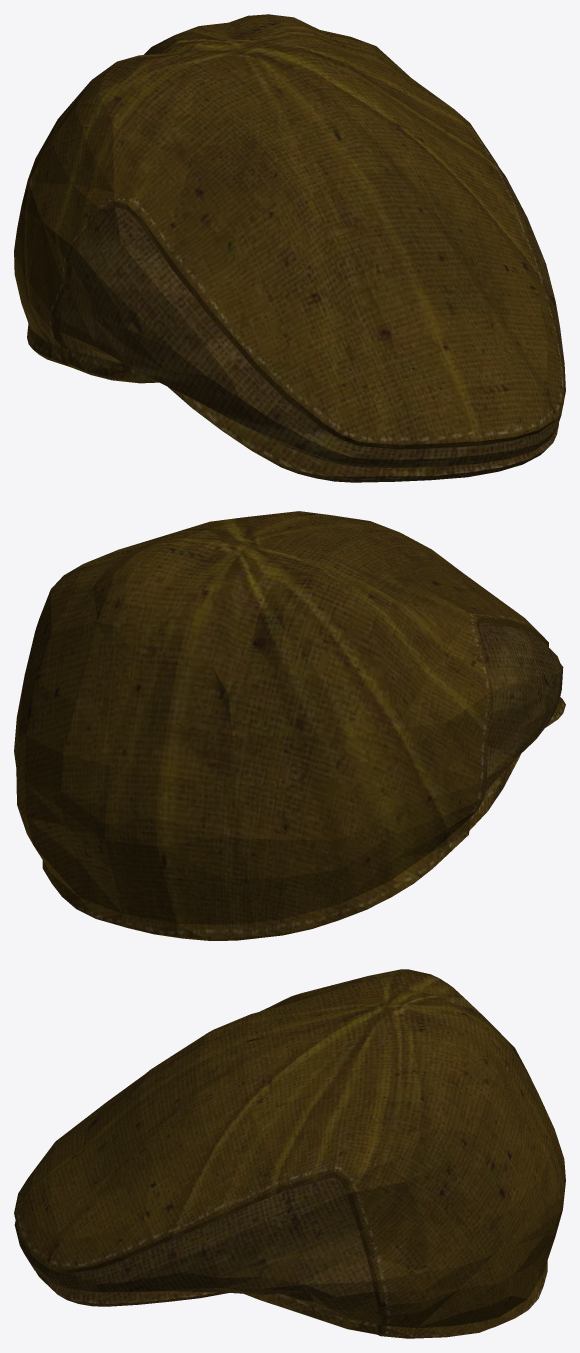
Rendered from HK_BERET_BROWN.glb.
The picture shows the model from 3 angles, top to bottom: view 1: azimuth 30°, elevation 25°; view 2: azimuth 150°, elevation 25°; view 3: azimuth 270°, elevation 25°; orthographic projection. The views are drawn at different scales.
Parts seen in each view (by area): view 1: HK_BERET_BROWN; view 2: HK_BERET_BROWN; view 3: HK_BERET_BROWN.
Boxes of the visible parts, left/top/right/bottom form: HK_BERET_BROWN: left=14, top=14, right=565, bottom=482; HK_BERET_BROWN: left=14, top=511, right=565, bottom=940; HK_BERET_BROWN: left=14, top=969, right=565, bottom=1338.
Bounding box in the file's own units: 0.2344 × 0.1699 × 0.3107.
1 material, 1 textured.
